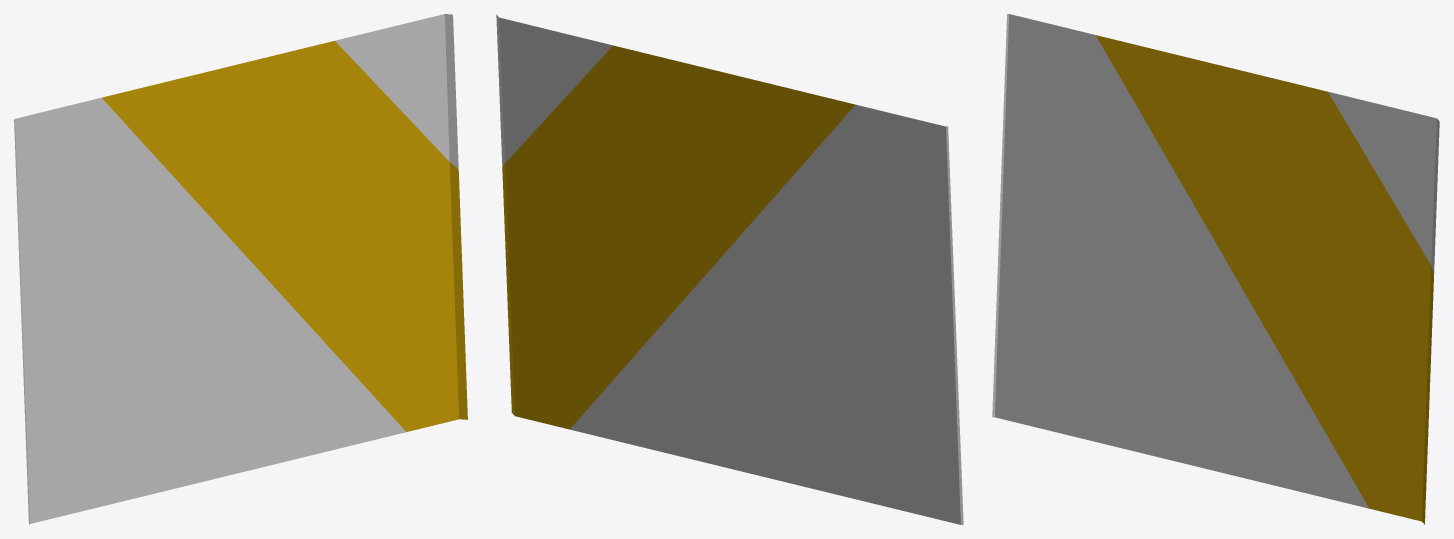
3 views of the same model, side by side, from view 1: azimuth 30°, elevation 25°; view 2: azimuth 150°, elevation 25°; view 3: azimuth 330°, elevation 25° (orthographic). The views are drawn at different scales.
Visible parts, largest first — view 1: D5F6668C48C30BFC547AB88CABCF6115; view 2: D5F6668C48C30BFC547AB88CABCF6115; view 3: D5F6668C48C30BFC547AB88CABCF6115.
Part boxes in pixels (x1=…): D5F6668C48C30BFC547AB88CABCF6115: x1=14, y1=14, x2=467, y2=524; D5F6668C48C30BFC547AB88CABCF6115: x1=496, y1=14, x2=963, y2=524; D5F6668C48C30BFC547AB88CABCF6115: x1=992, y1=14, x2=1439, y2=524.
Bounding box in the file's own units: 4.34 × 61.68 × 53.21.
